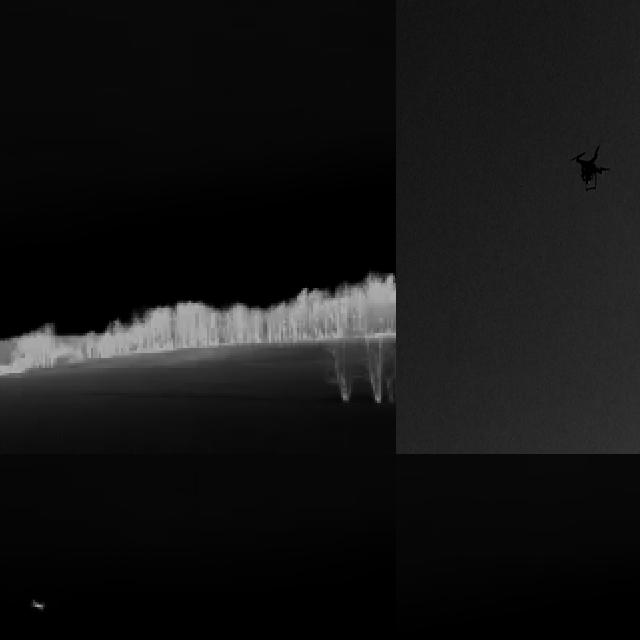0: (380, 210, 396, 240)
1: (18, 592, 58, 627)
drone: (572, 142, 613, 189)
